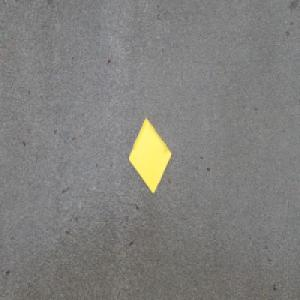PlasticPart: (128, 115, 172, 193)
